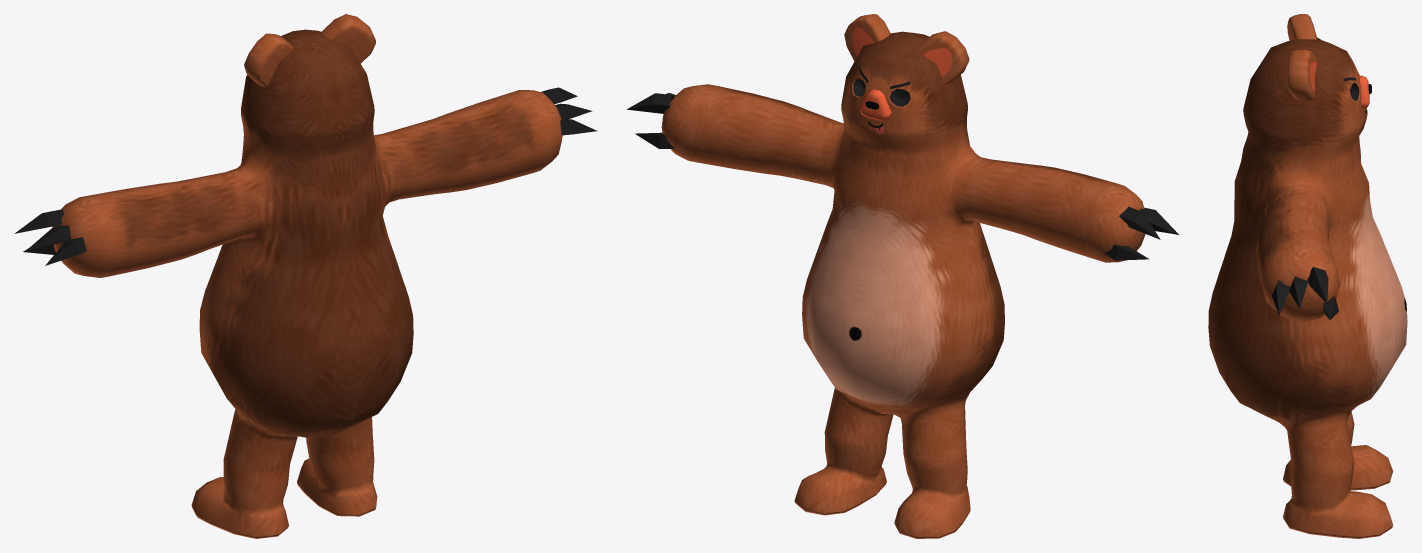
The model's file is rig_char_011.fbx.
3 renders of one model, left to right at view 1: azimuth 30°, elevation 25°; view 2: azimuth 150°, elevation 25°; view 3: azimuth 270°, elevation 25°, orthographic. The views are drawn at different scales.
Parts seen in each view (by area): view 1: mesh_char_11; view 2: mesh_char_11; view 3: mesh_char_11.
Boxes of the visible parts, x1,y1,x2,y2 form: mesh_char_11: [14, 14, 597, 538]; mesh_char_11: [626, 14, 1178, 538]; mesh_char_11: [1208, 14, 1407, 538].
Size of the model in its own units: 12.44 by 10.41 by 4.01.
